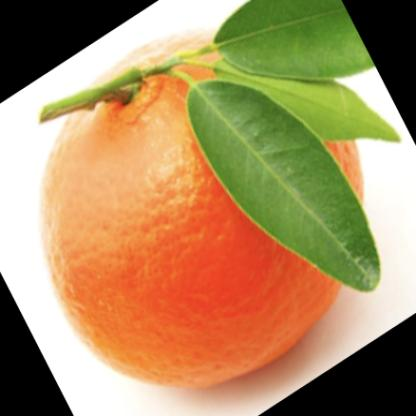fresh: (37, 32, 365, 388)
